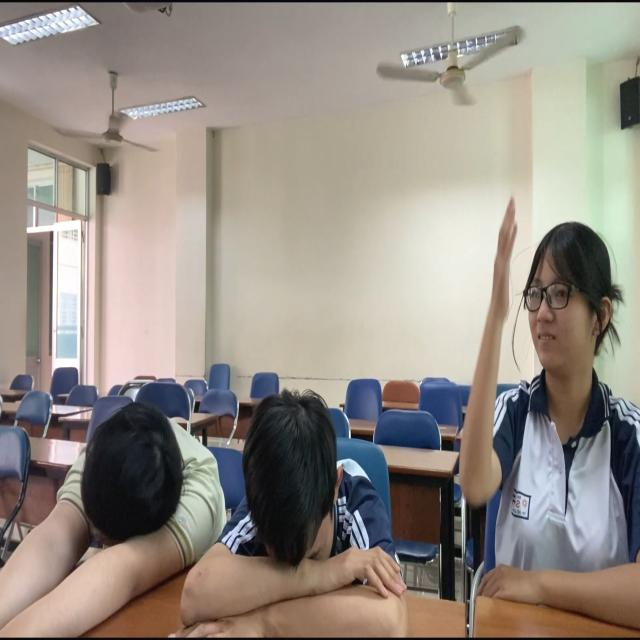raise_hand: (449, 144, 640, 640)
sleep: (159, 347, 442, 640), (1, 343, 235, 640)
